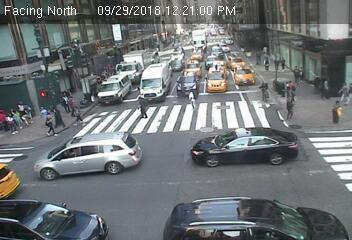car: (163, 197, 352, 239), (33, 134, 144, 180), (1, 199, 111, 240), (192, 126, 300, 166), (140, 61, 173, 103), (116, 49, 153, 84), (96, 73, 133, 106), (205, 66, 229, 95), (178, 75, 199, 97), (234, 65, 256, 86), (191, 29, 209, 50), (228, 54, 245, 70), (189, 46, 204, 62), (212, 44, 226, 59), (205, 54, 217, 66)
